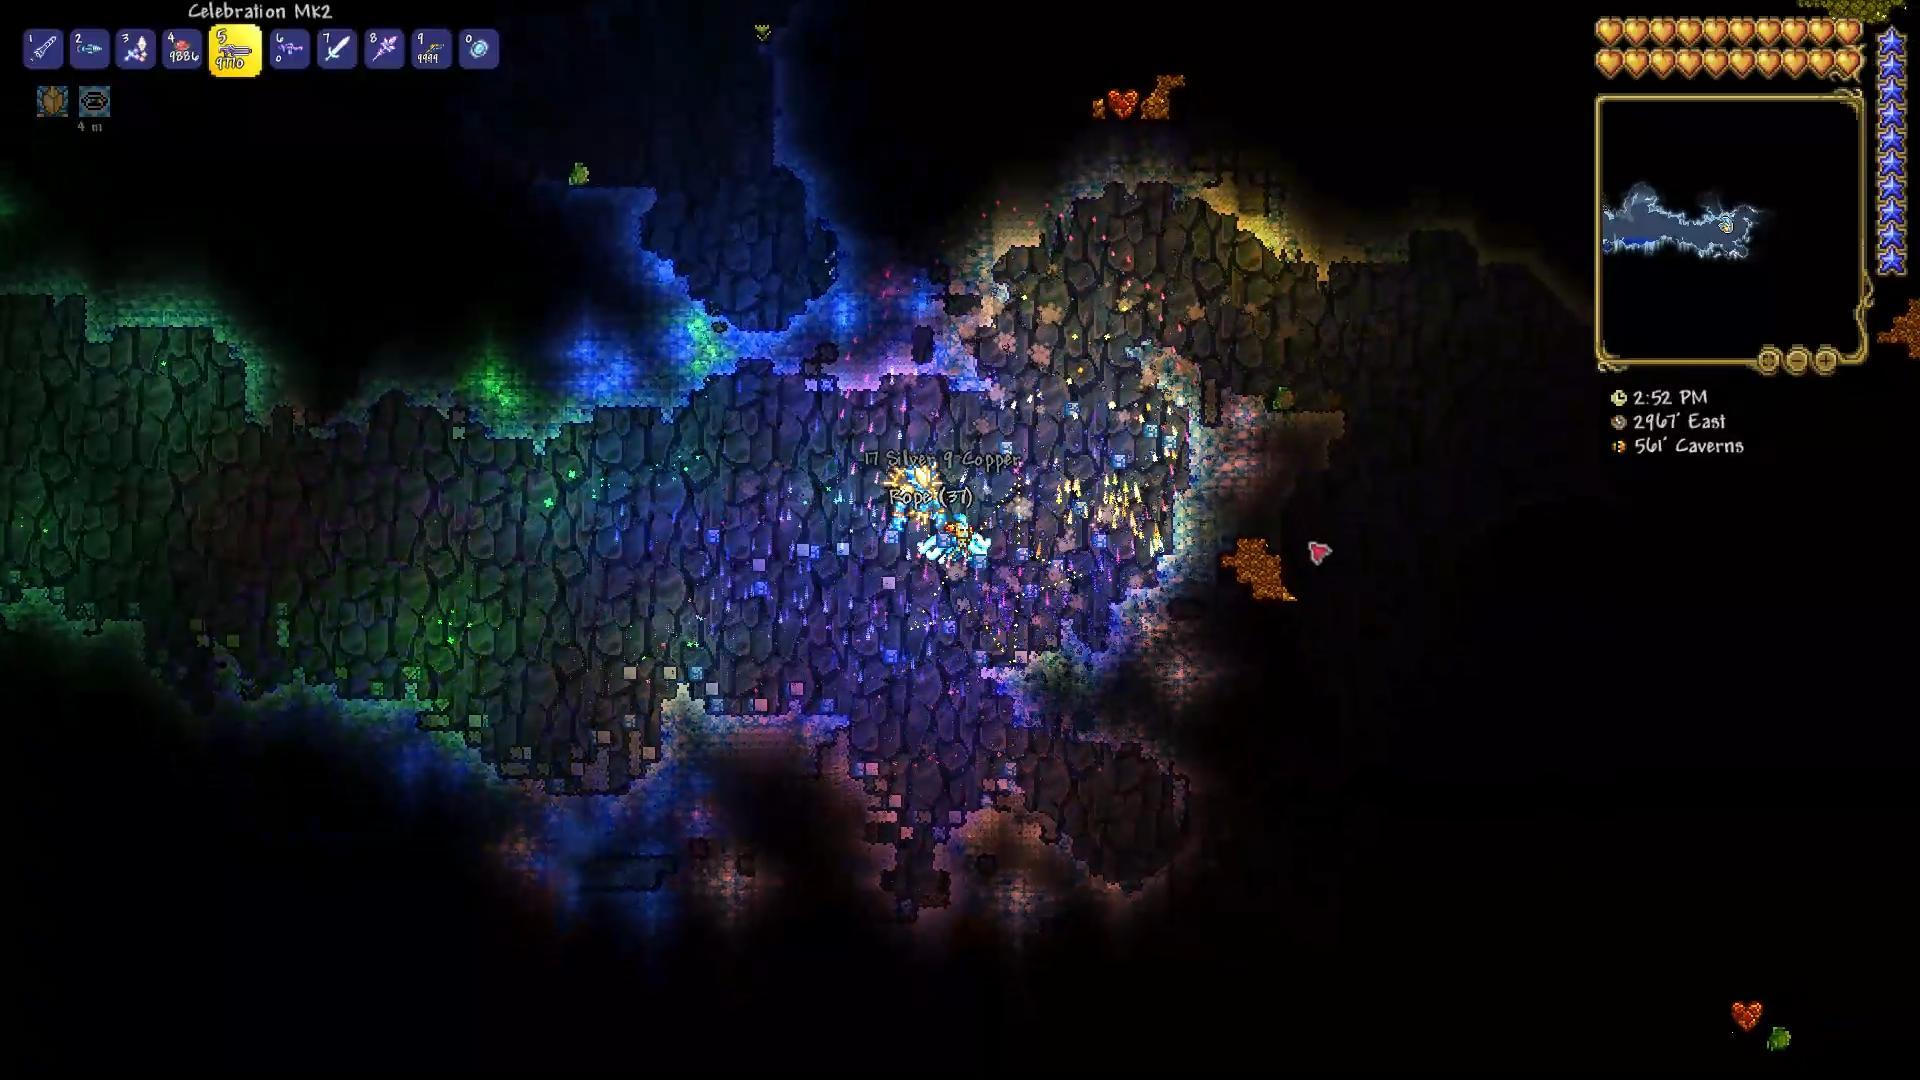lifeC: (1105, 83, 1141, 123), (1727, 997, 1767, 1033)
pot: (560, 157, 595, 186)
